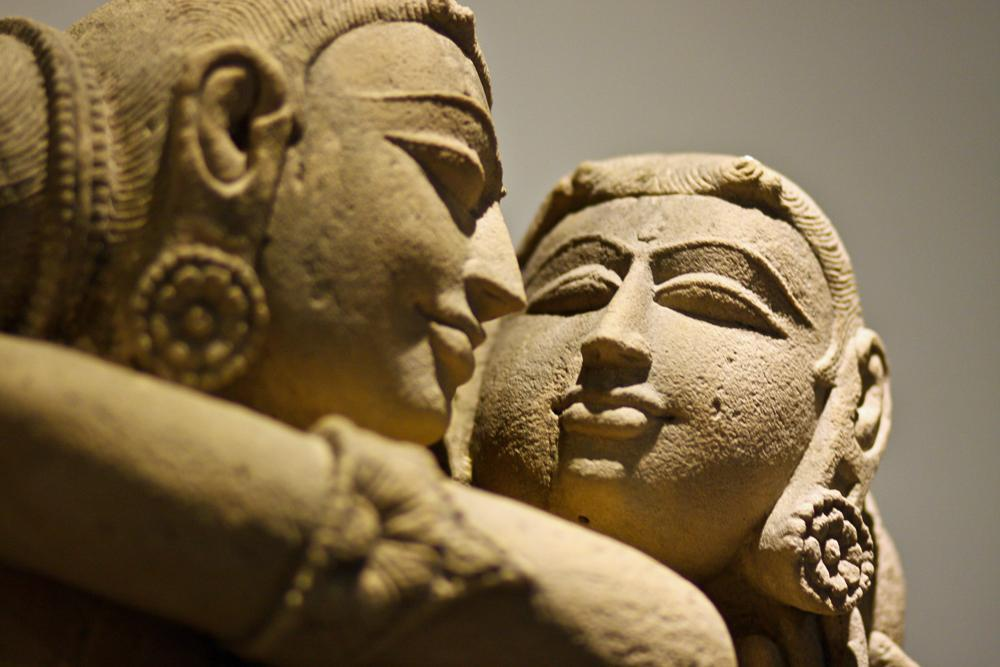person-like: (1, 1, 531, 667), (469, 142, 920, 667)
